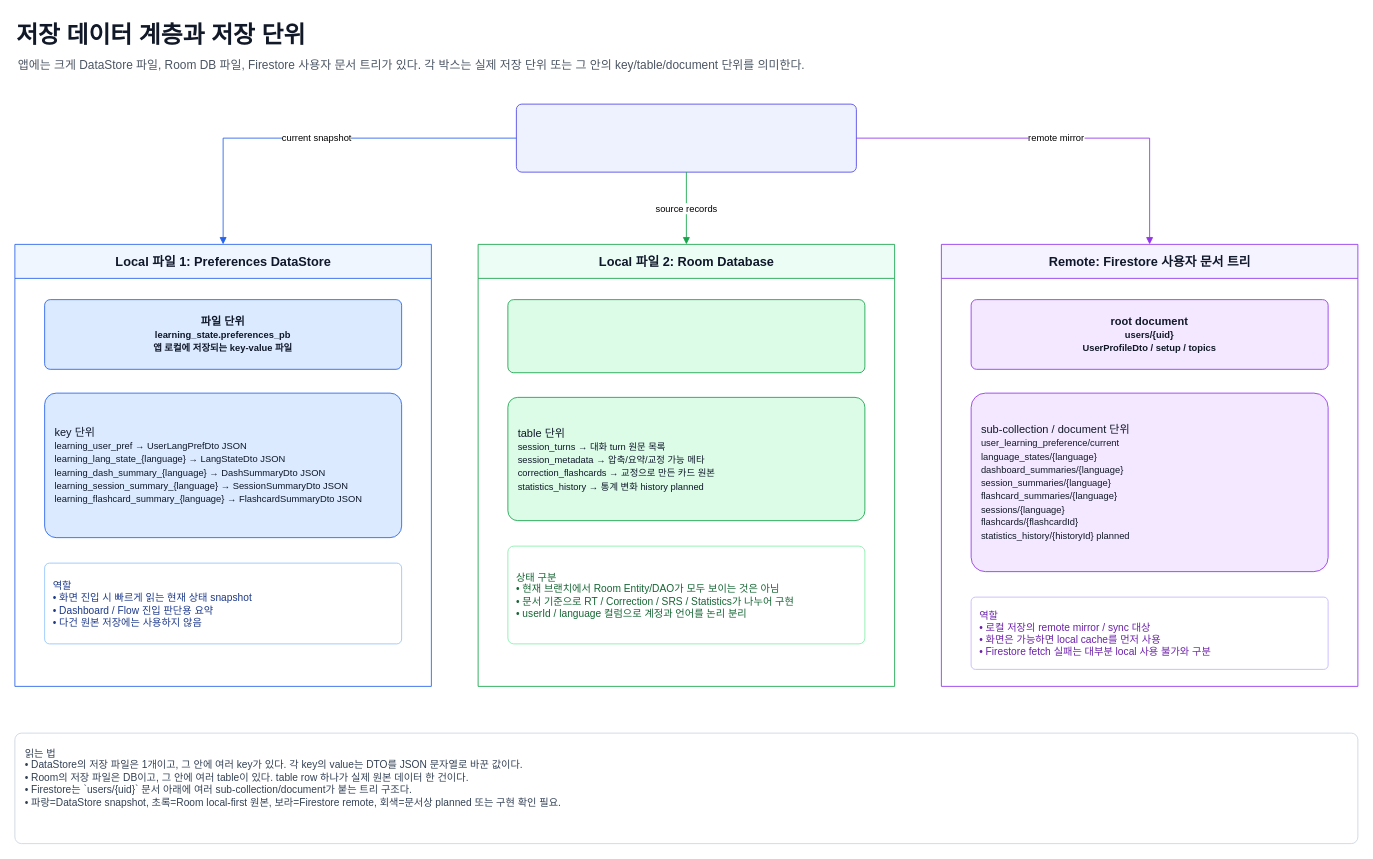
Some shapes in this 1373 by 859 pixel diagram are drawn without their labels. Here are the shapes that lost their labels. From the top down, the centre of each, then its label:
the point at 686,137: Umma App 로그인 uid + 현재 선택 language 기준으로 데이터 분리
the point at 686,336: DB 파일 단위 Room database 안에 여러 table 저장 고빈도 append / 다건 원본 / local-first 데이터 담당
